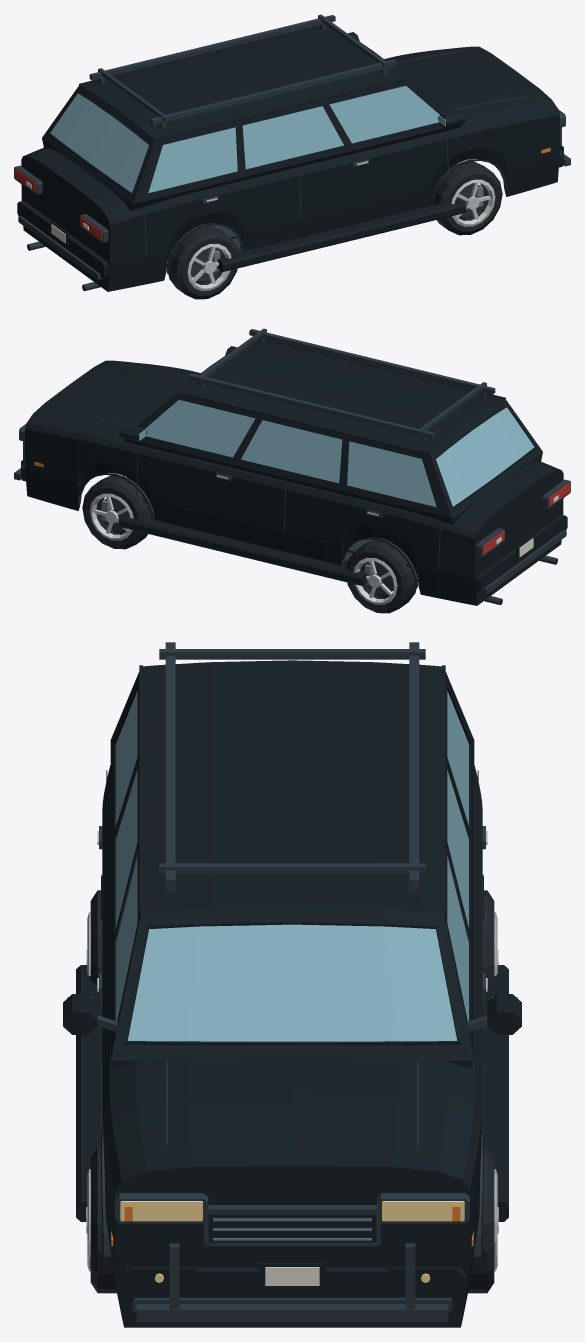
The model's file is b03_fullsize_towing_suv.glb.
3 renders of one model, top to bottom at view 1: azimuth 30°, elevation 25°; view 2: azimuth 150°, elevation 25°; view 3: azimuth 270°, elevation 25°, orthographic. The views are drawn at different scales.
Visible parts, largest first — view 1: b03_fullsize_towing_suv; view 2: b03_fullsize_towing_suv; view 3: b03_fullsize_towing_suv.
Boxes of the visible parts, box(x1,y1,x2,y2) form: b03_fullsize_towing_suv: box(14, 14, 570, 299); b03_fullsize_towing_suv: box(14, 328, 570, 613); b03_fullsize_towing_suv: box(63, 642, 521, 1327).
Size of the model in its own units: 6.04 by 2.14 by 2.52.
